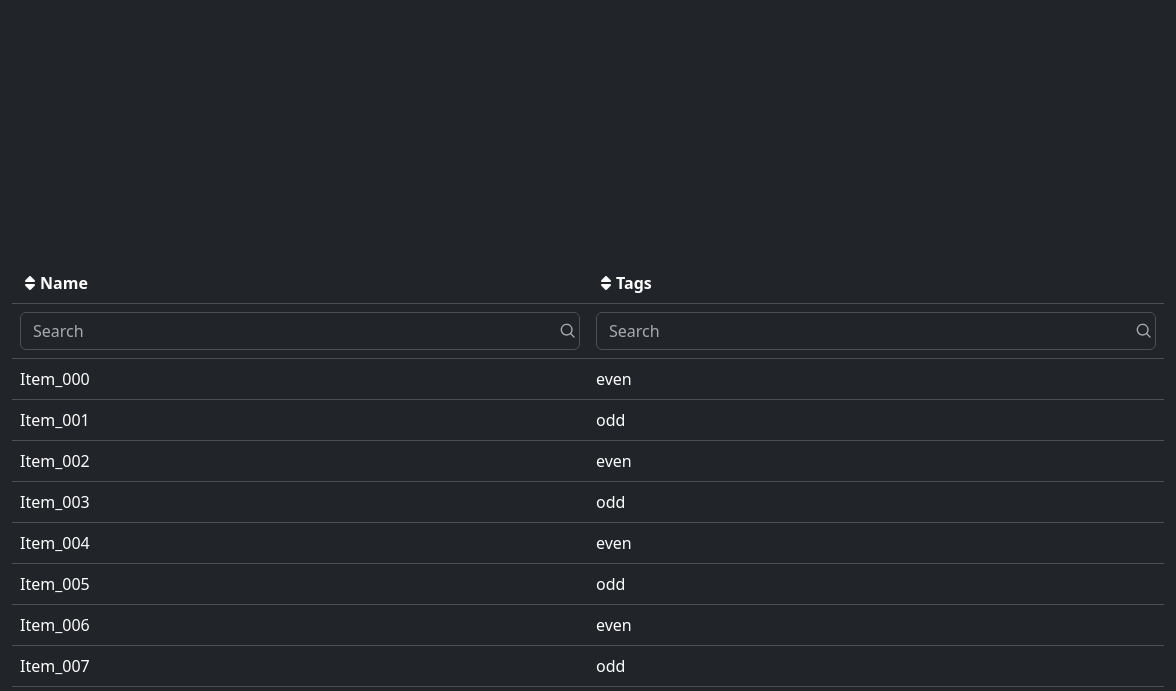
text filters › caps the select dropdown and says how many more there are
(page scrolled)
Click the 1st field with placeholder "Search". click: click(300, 331)
box: [20,312,580,350]
(page scrolled)
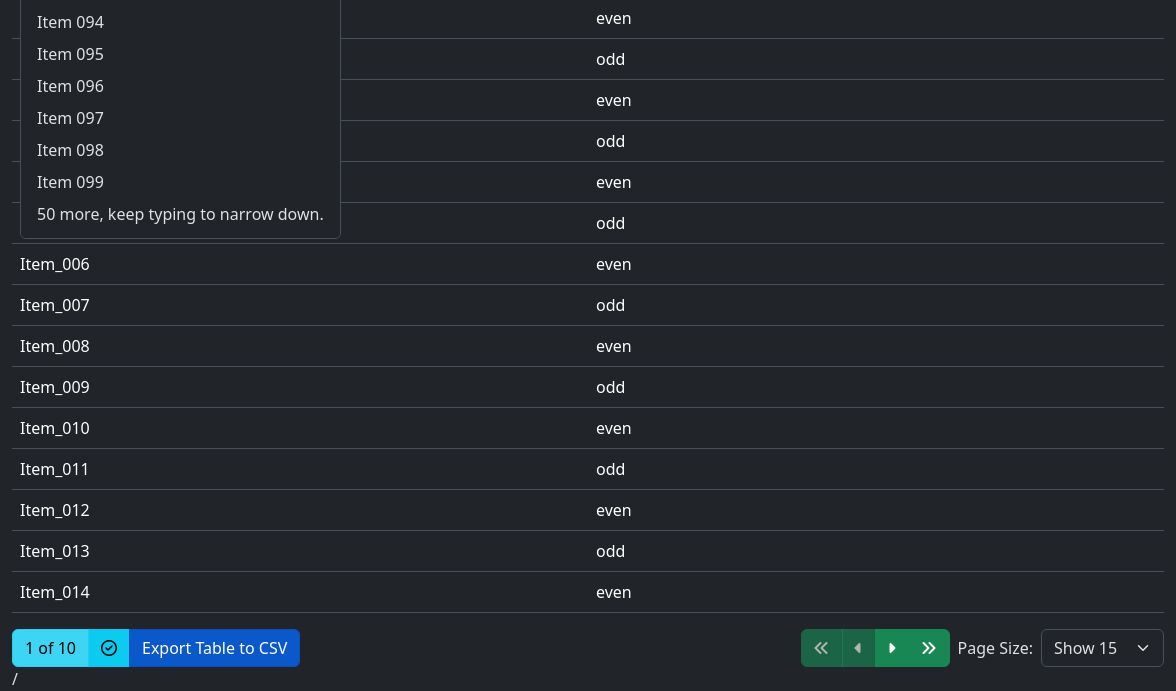
Check: the button "50 more, keep typing to narrow down." is shown, box [21,198,340,230]
